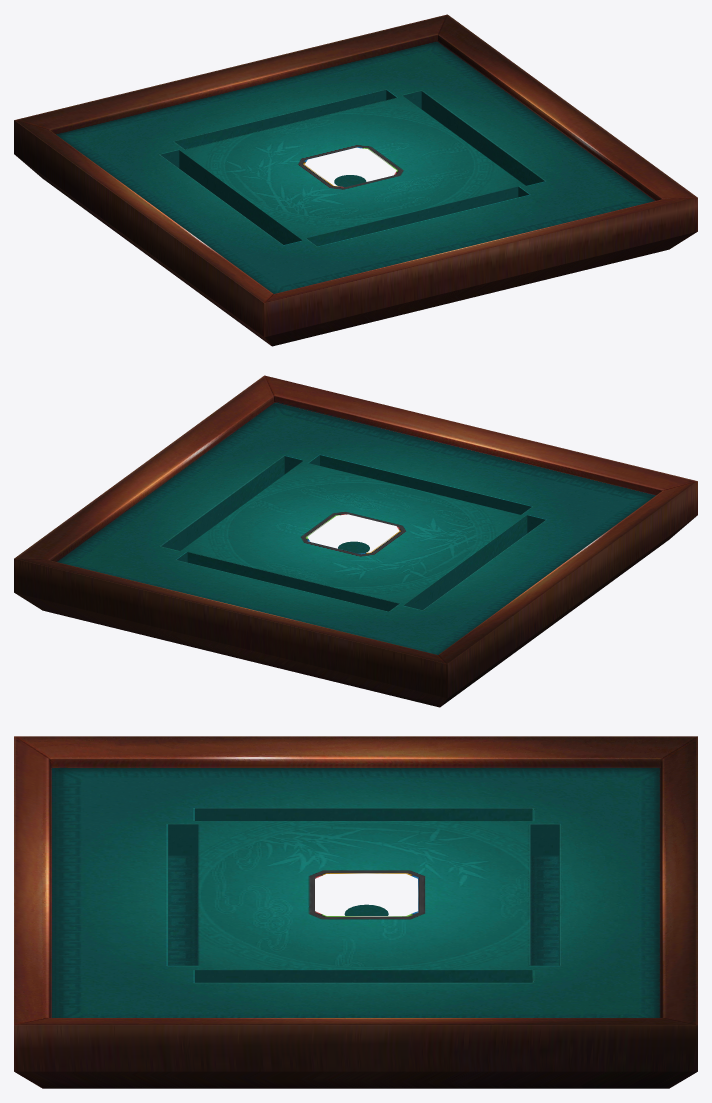
The model's file is desk_main.FBX.
3 renders of one model, top to bottom at view 1: azimuth 30°, elevation 25°; view 2: azimuth 150°, elevation 25°; view 3: azimuth 270°, elevation 25°, orthographic. The views are drawn at different scales.
Visible parts, largest first — view 1: mjtai; view 2: mjtai; view 3: mjtai.
Boxes of the visible parts, <box> form: mjtai: <box>14,14,697,346</box>; mjtai: <box>14,375,697,707</box>; mjtai: <box>14,736,697,1088</box>.
Bounding box in the file's own units: 2.22 × 0.2707 × 2.22.
